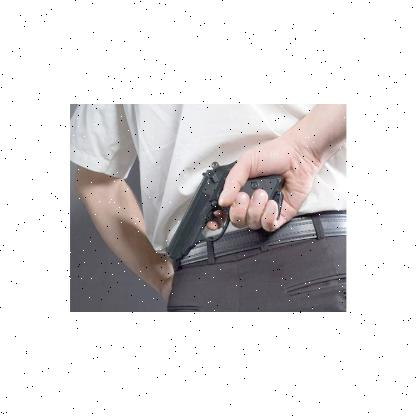gun: (162, 156, 288, 260)
